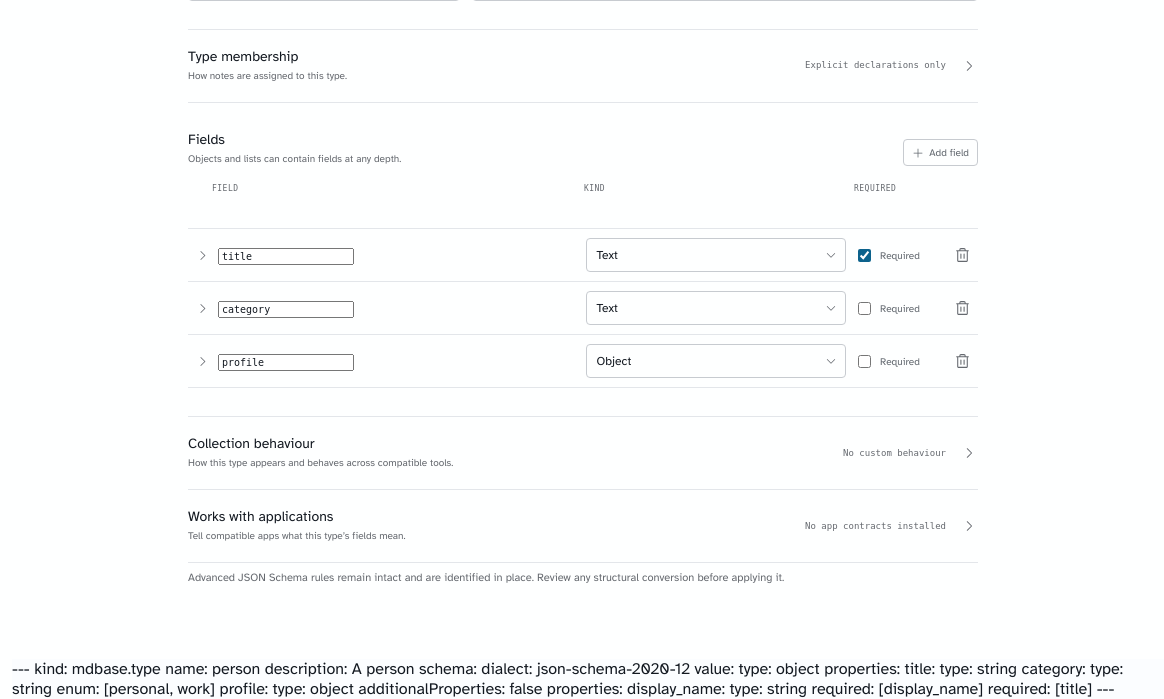
Scenario: recursive type builder › adds and edits nested object fields through the design view
(page scrolled)
Click the button named "Expand profile field". click: click(200, 361)
box: [190,347,210,375]
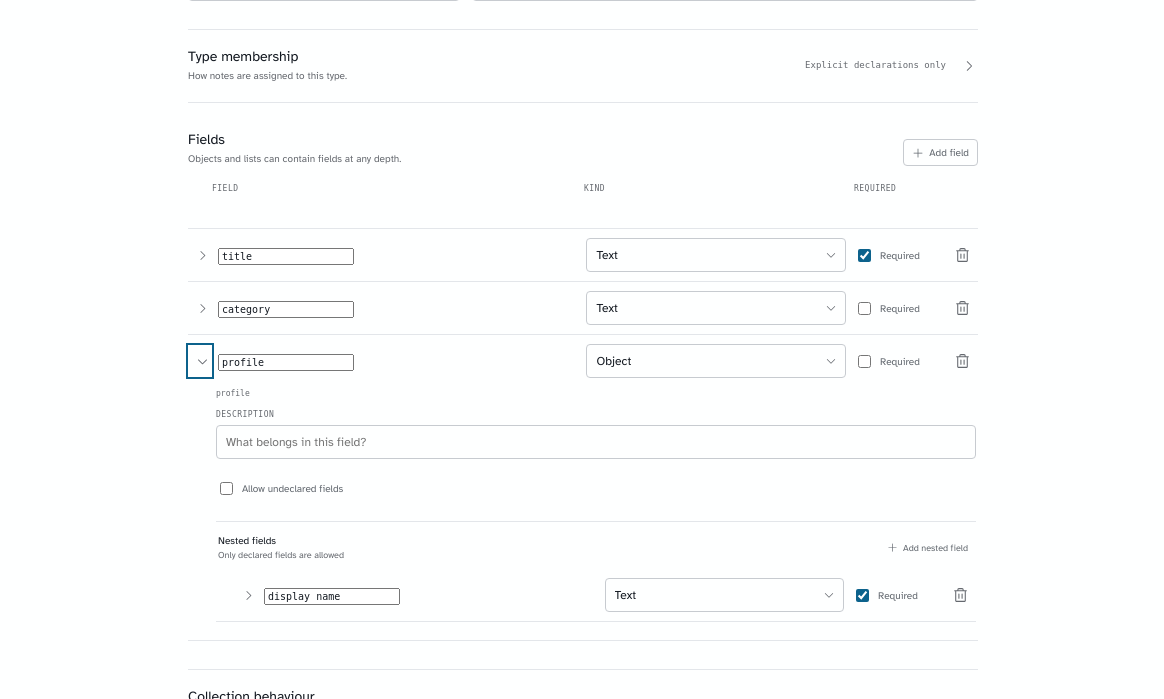
Now the field showing "display_name" below "Only declared fields are allowed" is shown, box [264,588,400,605]
Click the button "Add nested field". click: click(928, 548)
box: [881,541,974,555]
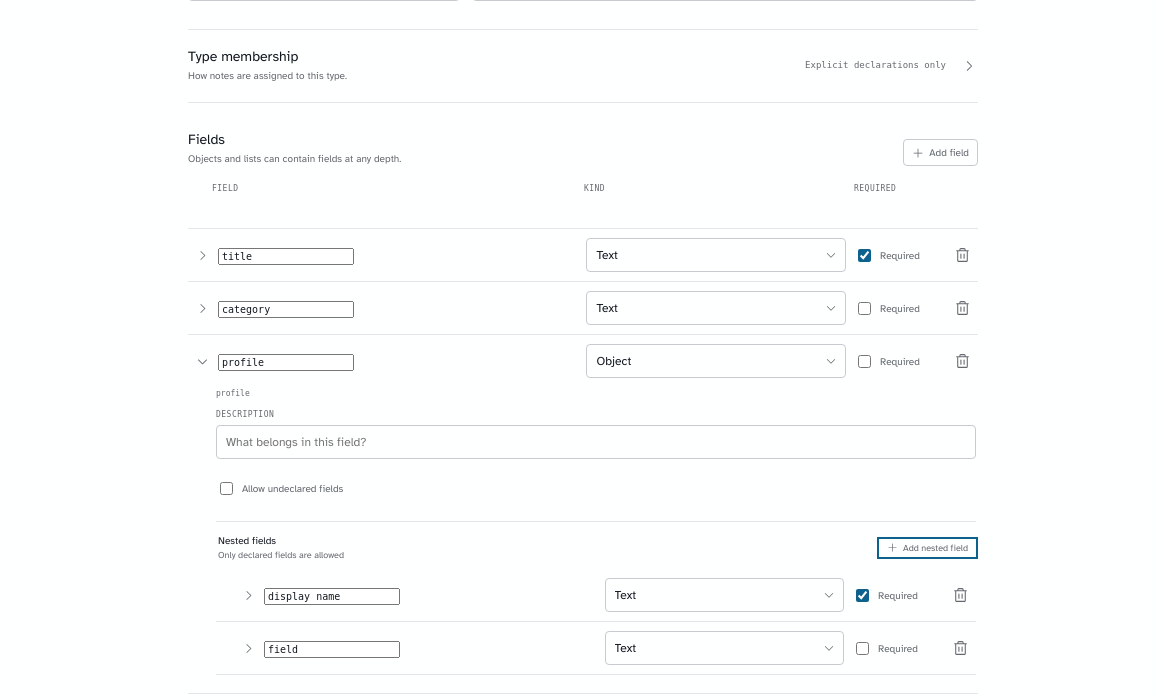
Replace the text in the 5th field showing "field" with "timezone". click: (332, 650)
box: [264,641,400,658]
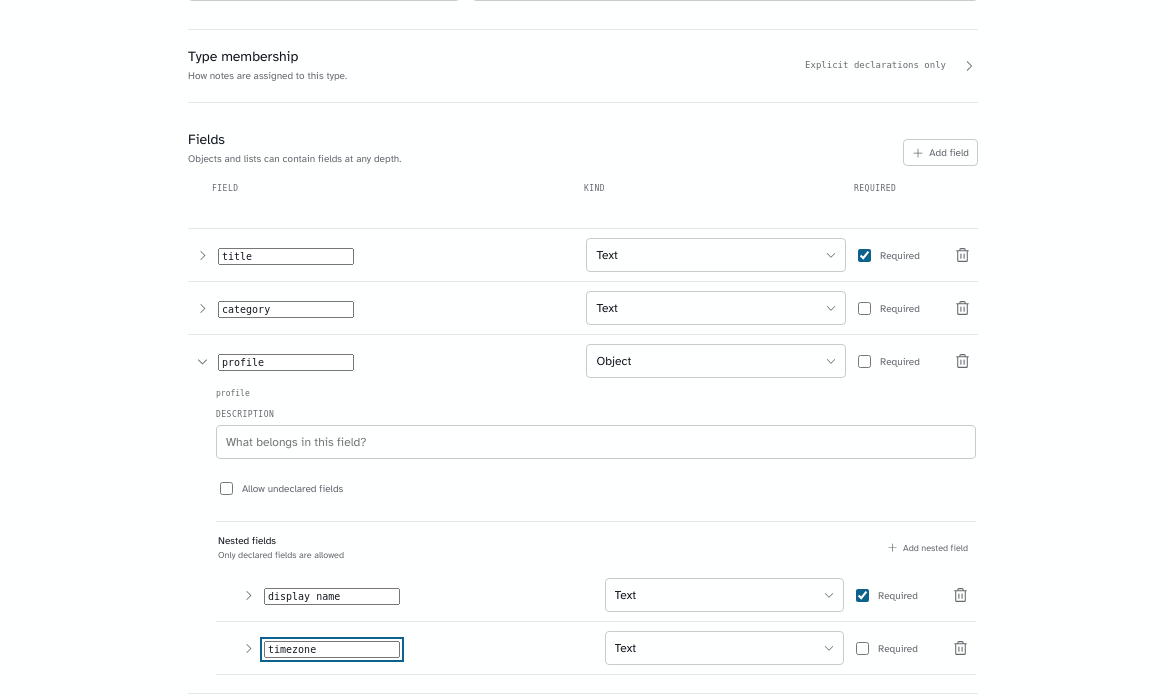
Press Tab
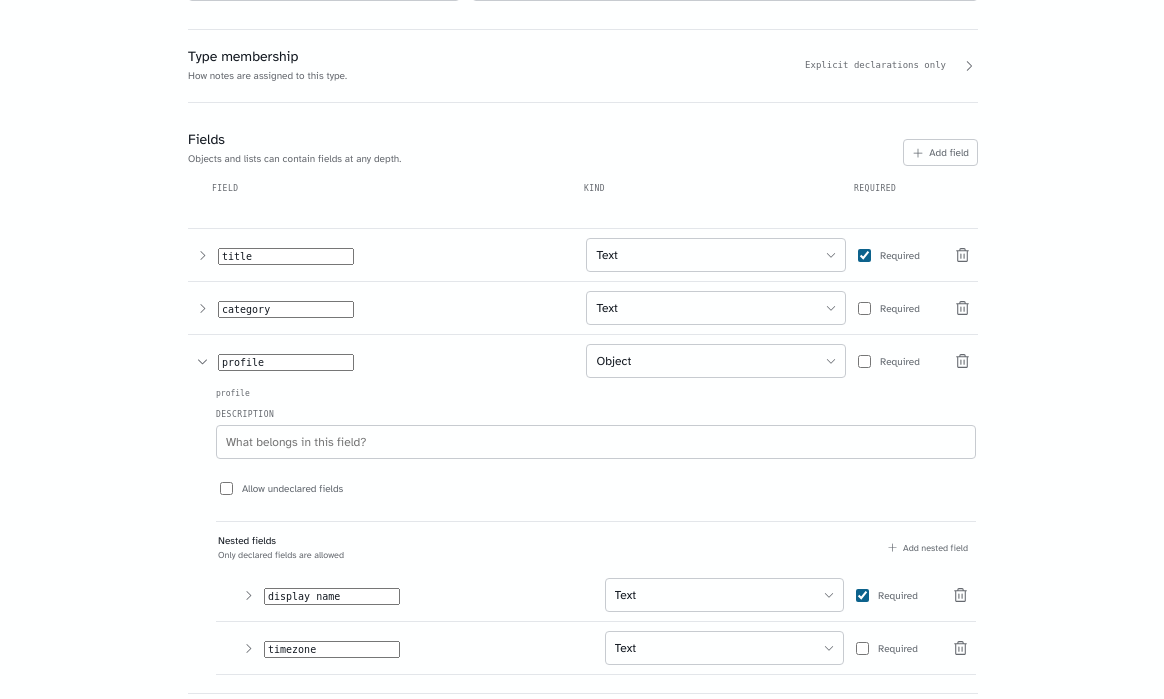
Click the 5th checkbox labelled "Required". click: click(862, 648)
box: [856,642,869,655]
(page scrolled)
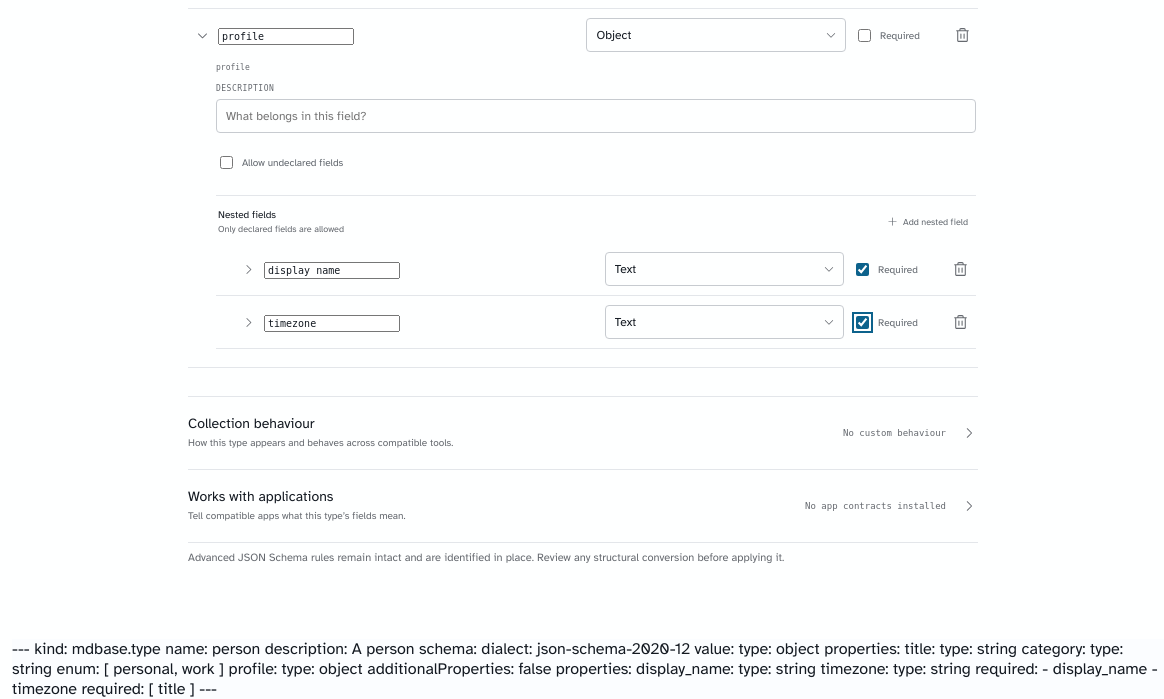
Expected: the text with test id "source" shows "required:", [12,639,1158,698]
Now the text with test id "source" shows "timezone:", box [12,639,1158,698]
Now the text with test id "source" shows "- timezone", box [12,639,1158,698]
